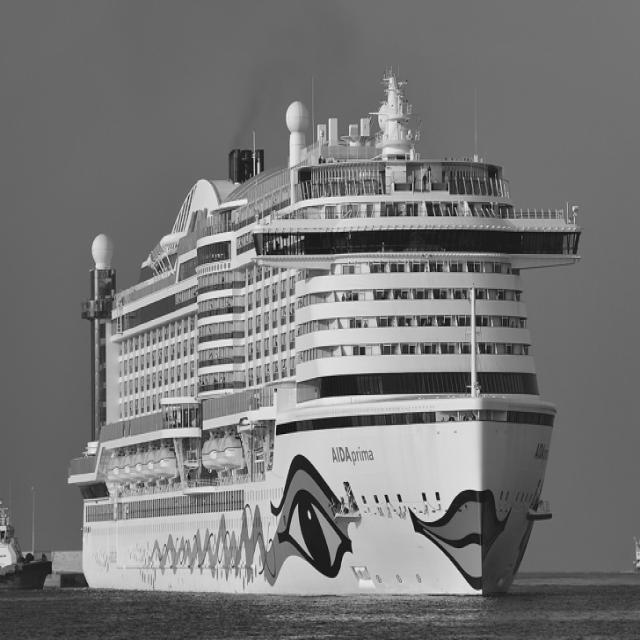cruises: (65, 68, 588, 614)
